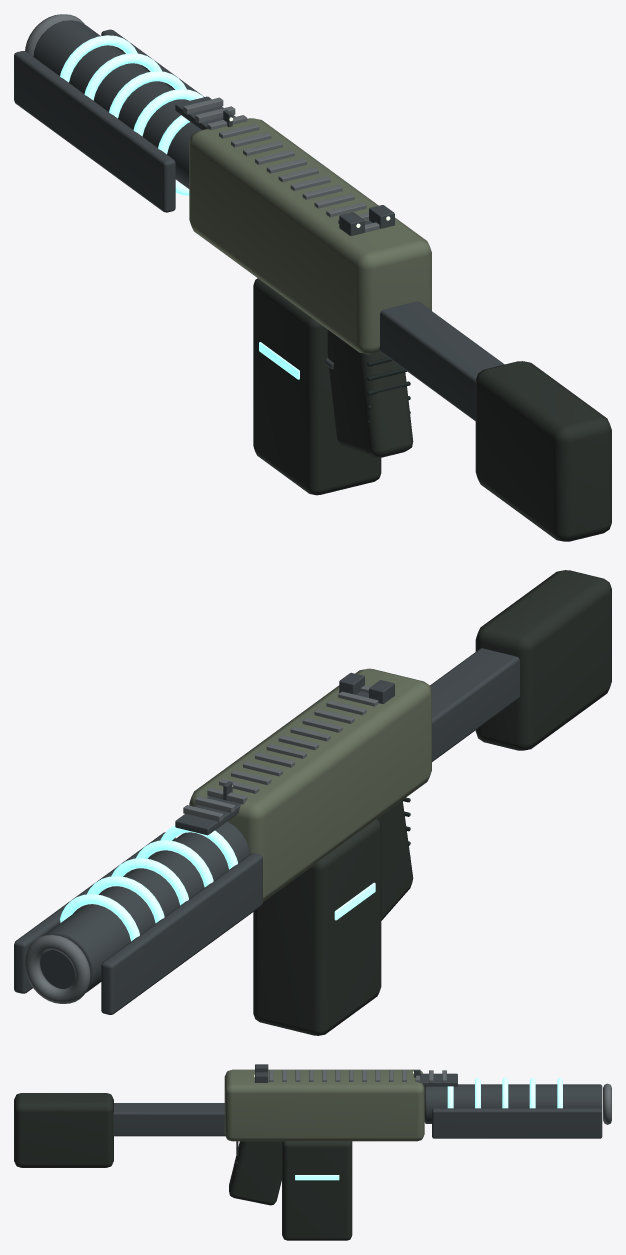
The model's file is weapon-arc.glb.
The picture shows the model from 3 angles, top to bottom: view 1: azimuth 30°, elevation 25°; view 2: azimuth 150°, elevation 25°; view 3: azimuth 270°, elevation 25°; orthographic projection. The views are drawn at different scales.
Parts seen in each view (by area): view 1: weapon-arc, FP_HIDDEN_Shoulder stock, FP_HIDDEN_Stock beam; view 2: weapon-arc, FP_HIDDEN_Shoulder stock, FP_HIDDEN_Stock beam; view 3: weapon-arc, FP_HIDDEN_Shoulder stock, FP_HIDDEN_Stock beam.
Boxes of the visible parts, <box> form: weapon-arc: <box>14,14,431,495</box>; FP_HIDDEN_Shoulder stock: <box>475,361,611,541</box>; FP_HIDDEN_Stock beam: <box>379,301,504,420</box>; weapon-arc: <box>14,668,431,1035</box>; FP_HIDDEN_Shoulder stock: <box>475,570,611,750</box>; FP_HIDDEN_Stock beam: <box>430,648,519,761</box>; weapon-arc: <box>224,1064,611,1240</box>; FP_HIDDEN_Shoulder stock: <box>14,1093,113,1167</box>; FP_HIDDEN_Stock beam: <box>113,1103,225,1136</box>.
Bounding box in the file's own units: 0.087 × 0.243 × 0.8075.
